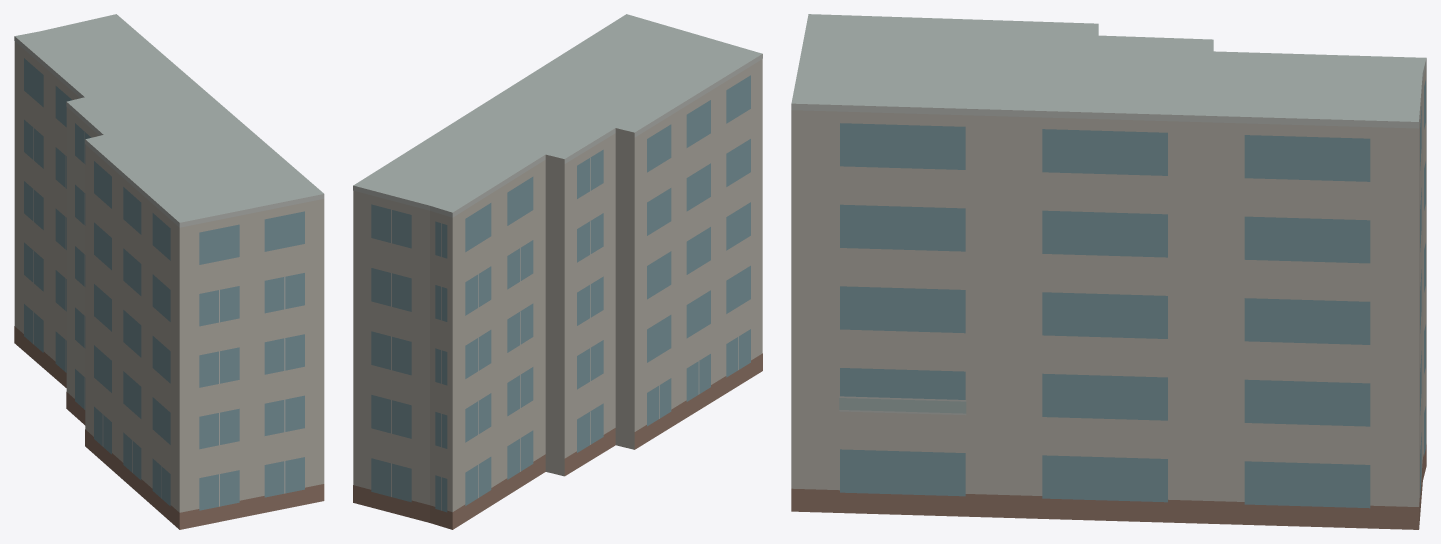
File: survey-upis-32542997.glb
3 views of the same model, side by side, from view 1: azimuth 30°, elevation 25°; view 2: azimuth 150°, elevation 25°; view 3: azimuth 270°, elevation 25° (orthographic). The views are drawn at different scales.
Visible parts, largest first — view 1: survey-upis-32542997.tmp; view 2: survey-upis-32542997.tmp; view 3: survey-upis-32542997.tmp.
Part boxes in pixels (box(x1,y1,x2,y2)): survey-upis-32542997.tmp: box(14, 14, 324, 529); survey-upis-32542997.tmp: box(353, 14, 762, 529); survey-upis-32542997.tmp: box(791, 14, 1426, 529).
Bounding box in the file's own units: 8.7 × 15.3 × 21.61.
